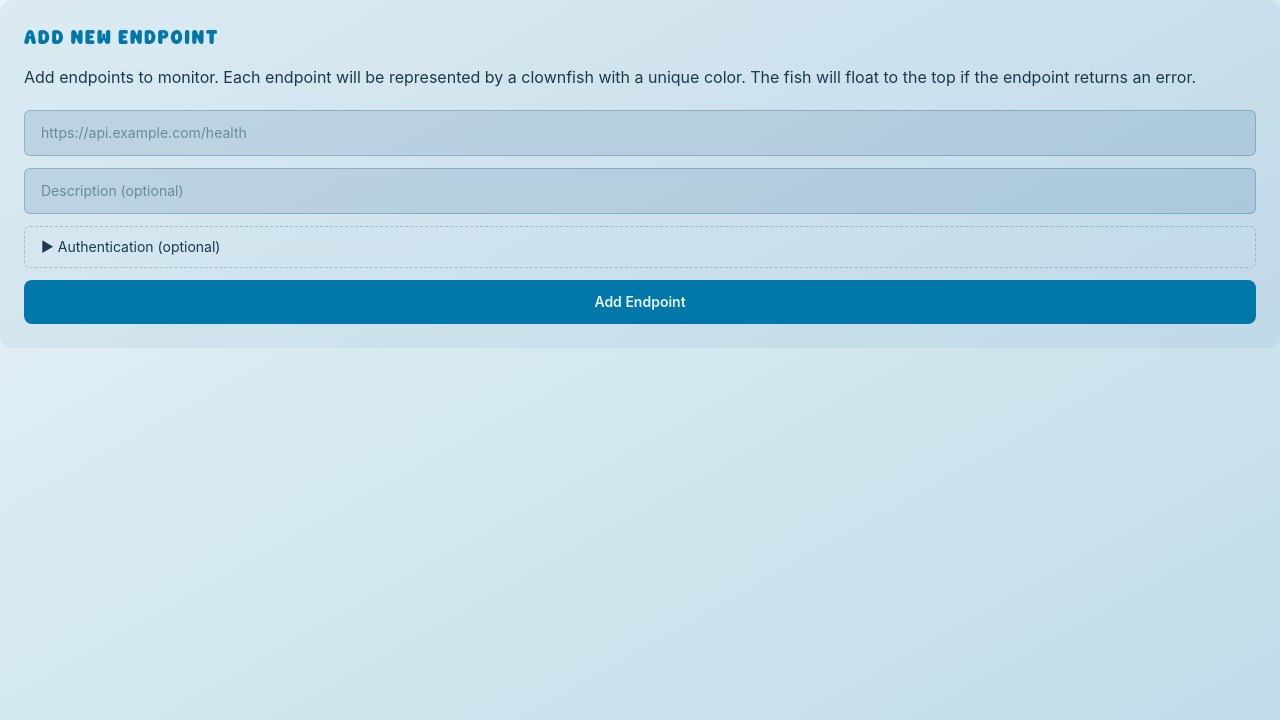
Test case: AddEndpointForm › shows basic auth fields when Basic Auth is selected
Click the button "▶ Authentication (optional)".
click(137, 246)  # box 24,226 -> 1256,268
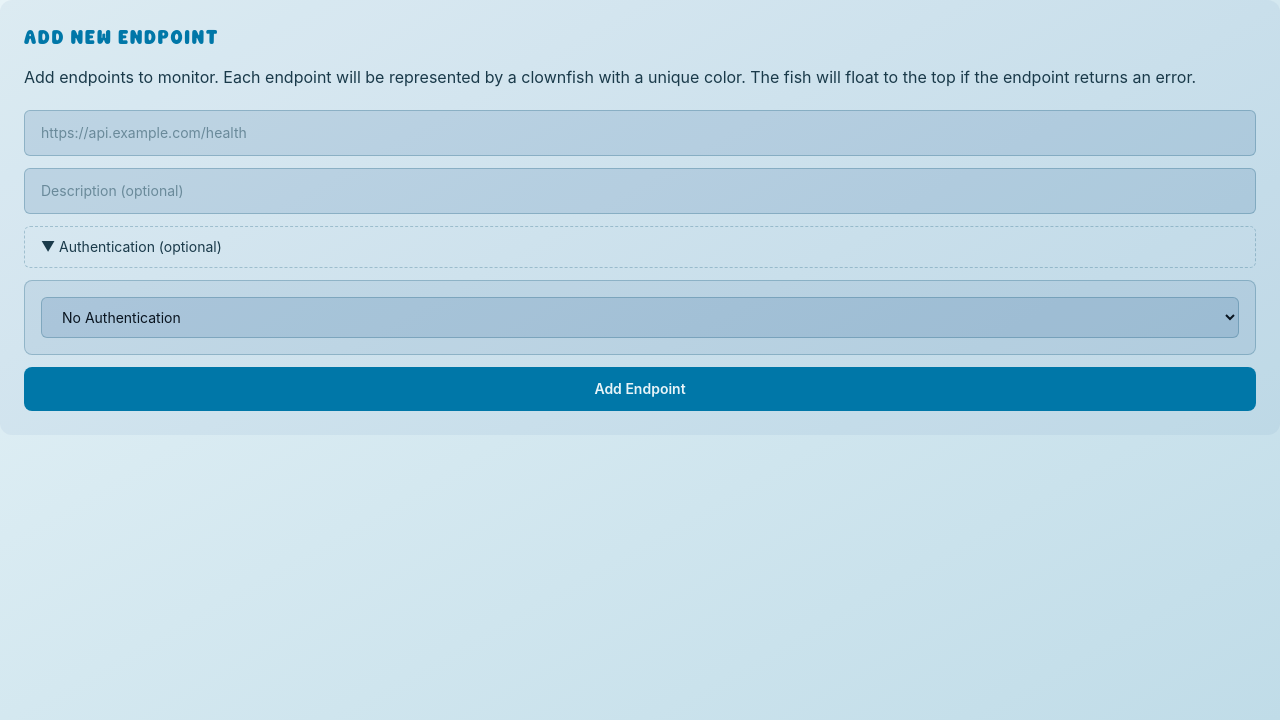
Select "Basic Auth" in the dropdown at (640, 318), box 41,297 -> 1239,338
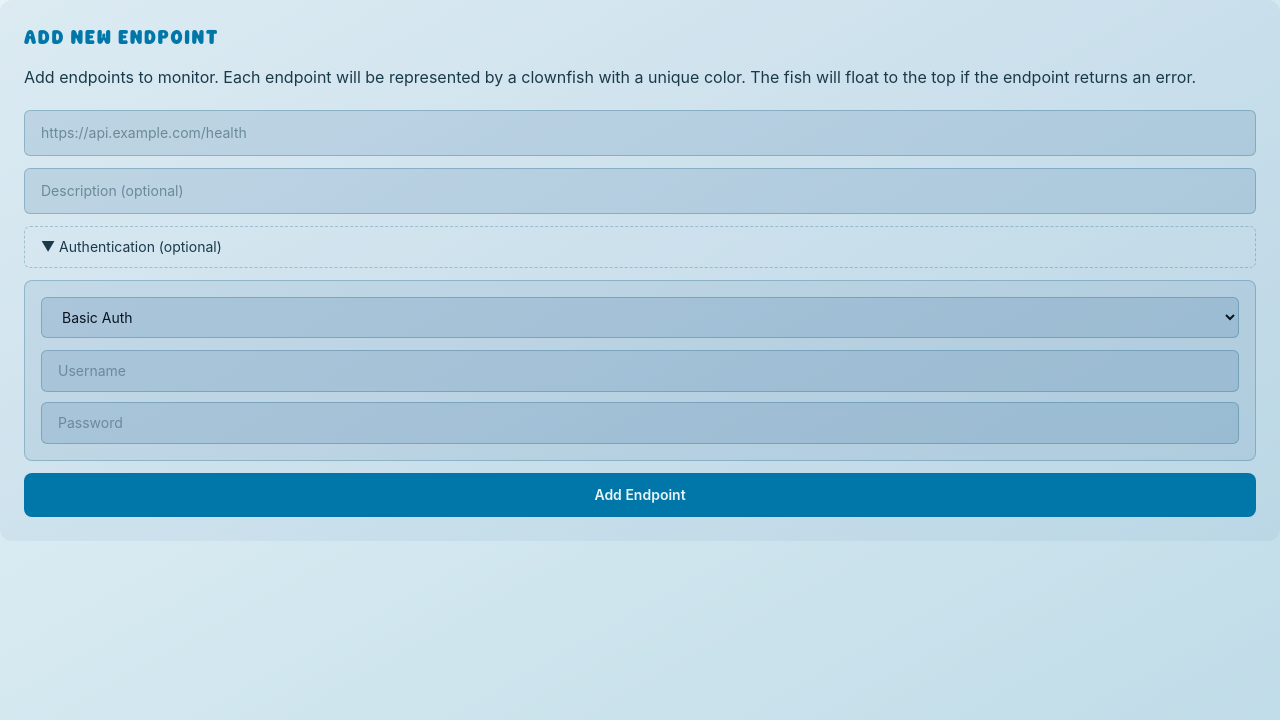
expect the field with placeholder "Username" is shown: met, box 41,350 -> 1239,392
expect the password field with placeholder "Password" is shown: met, box 41,402 -> 1239,444
